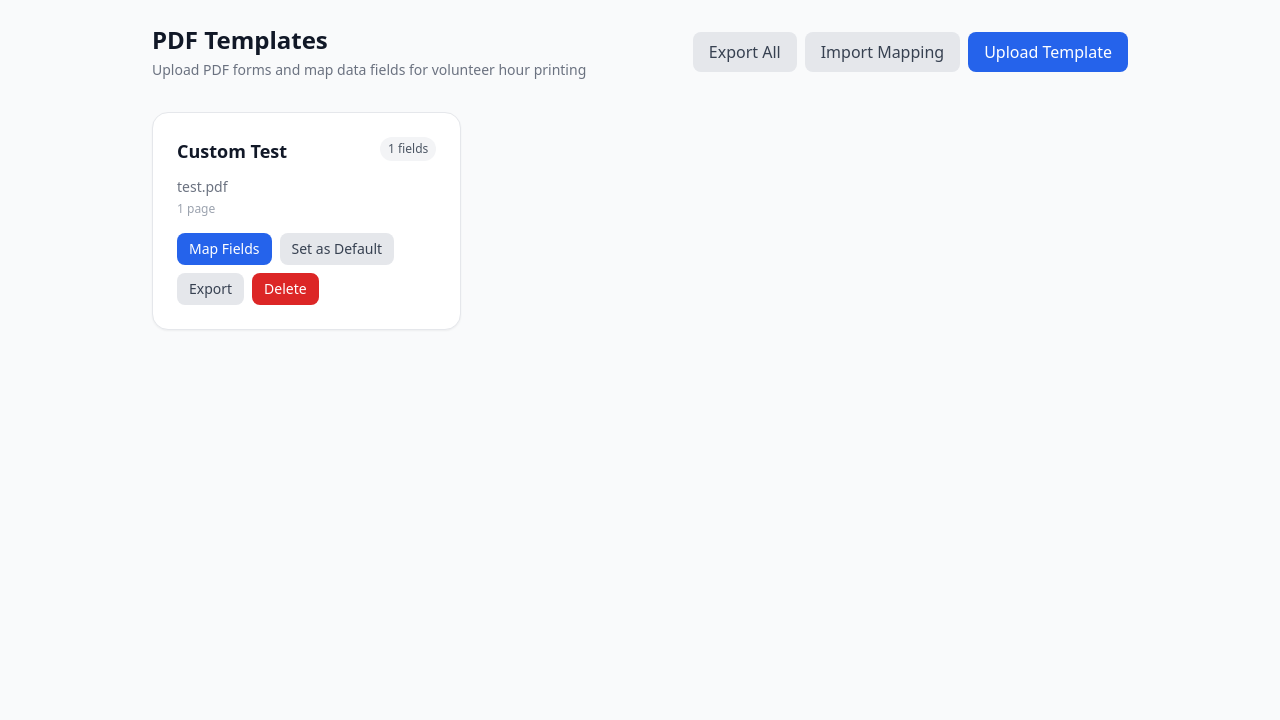
Test: PdfTemplatesPage › field mapper modal › should display custom static fields in mapped fields list
Click the button "Map Fields": (224, 249) left=177, top=233, right=272, bottom=265
(page scrolled)
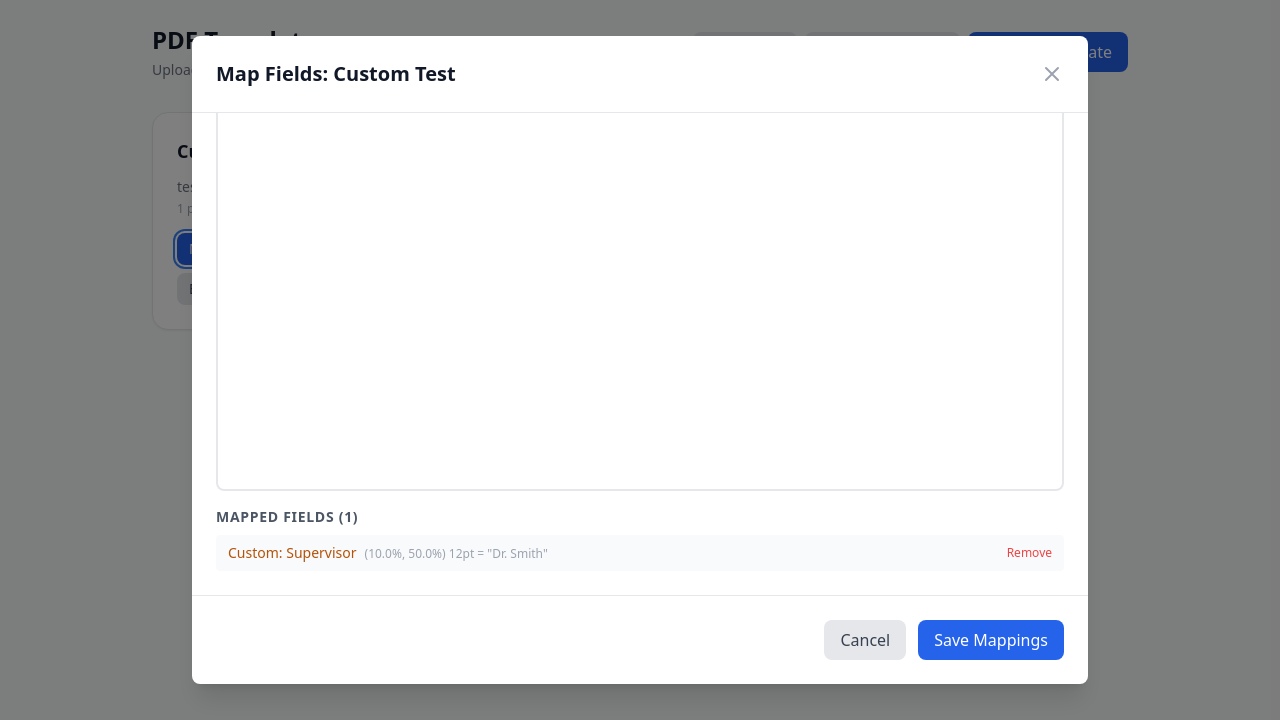
Result: the heading "Mapped Fields (1)" is shown at left=216, top=507, right=358, bottom=526
Result: the text "Custom: Supervisor" is shown at left=228, top=543, right=356, bottom=562
